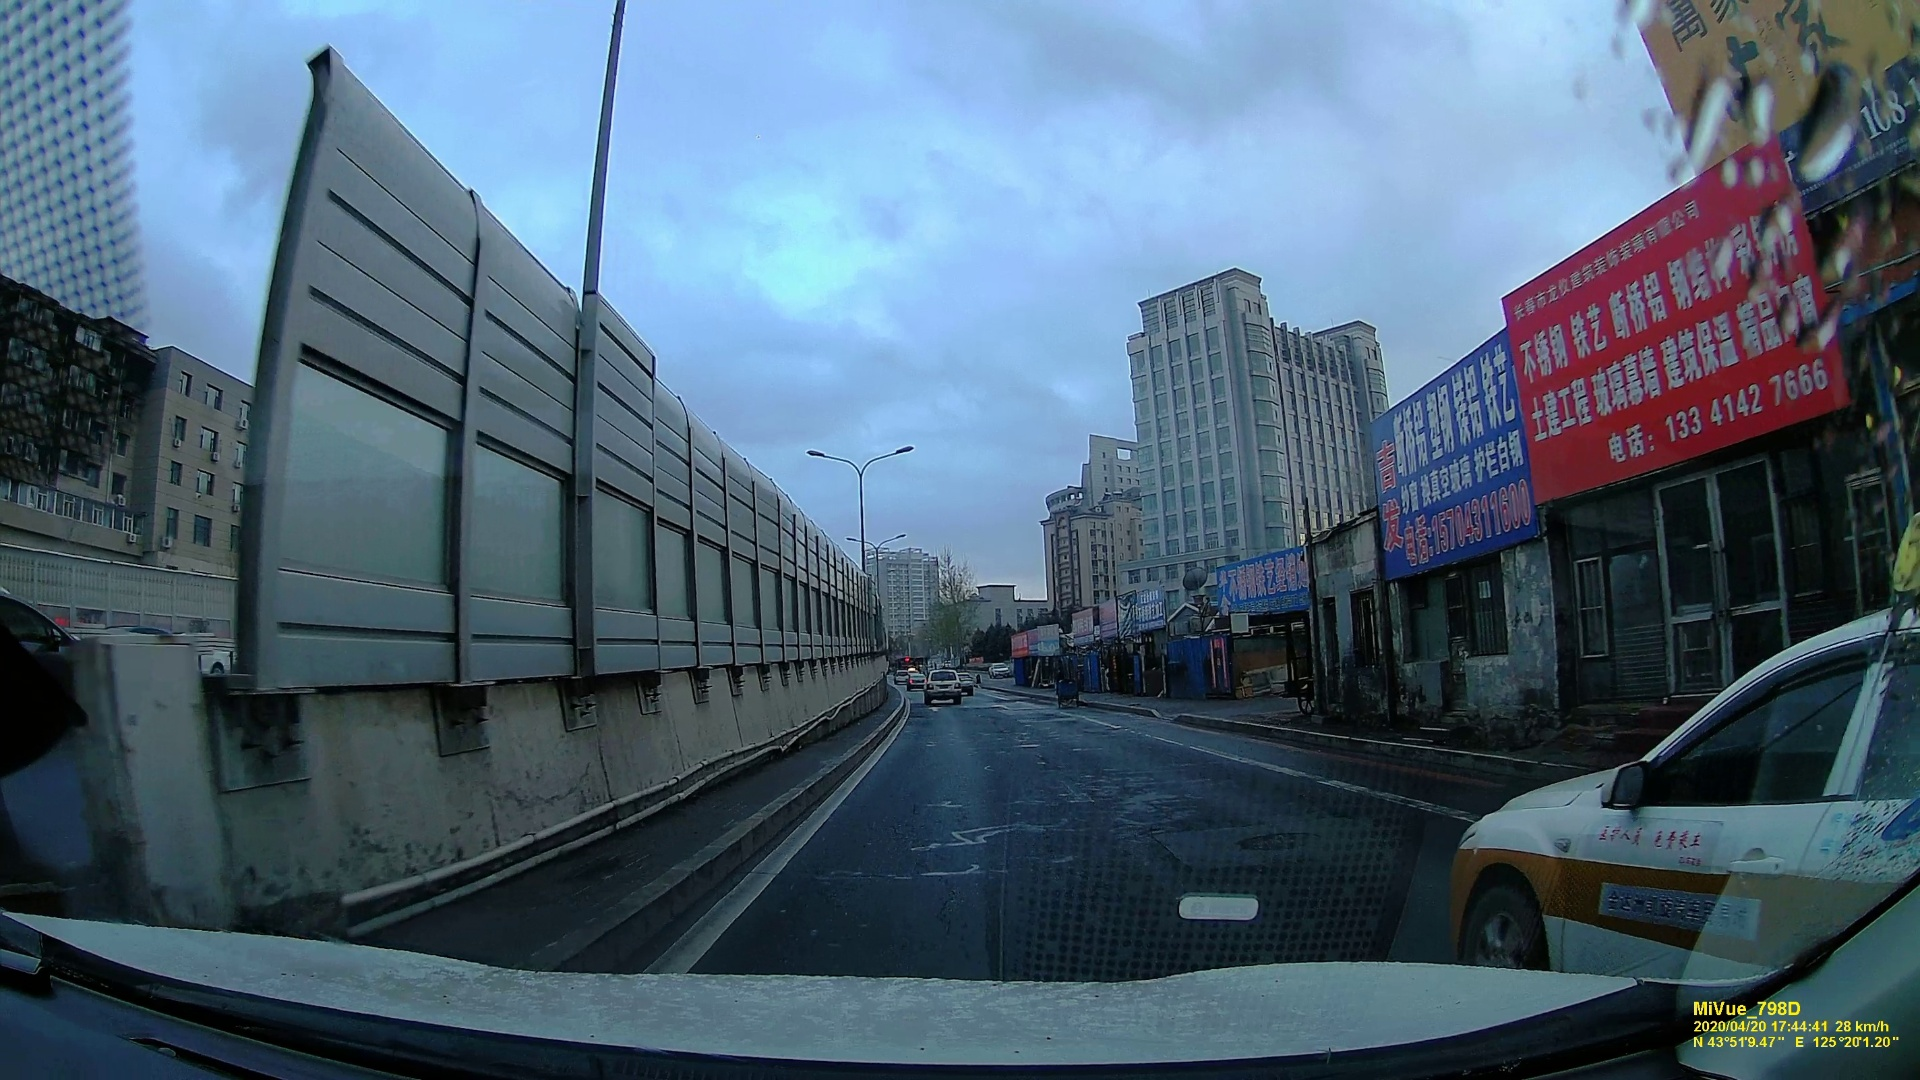vehicle: (1440, 600, 1920, 996), (926, 669, 963, 705)
